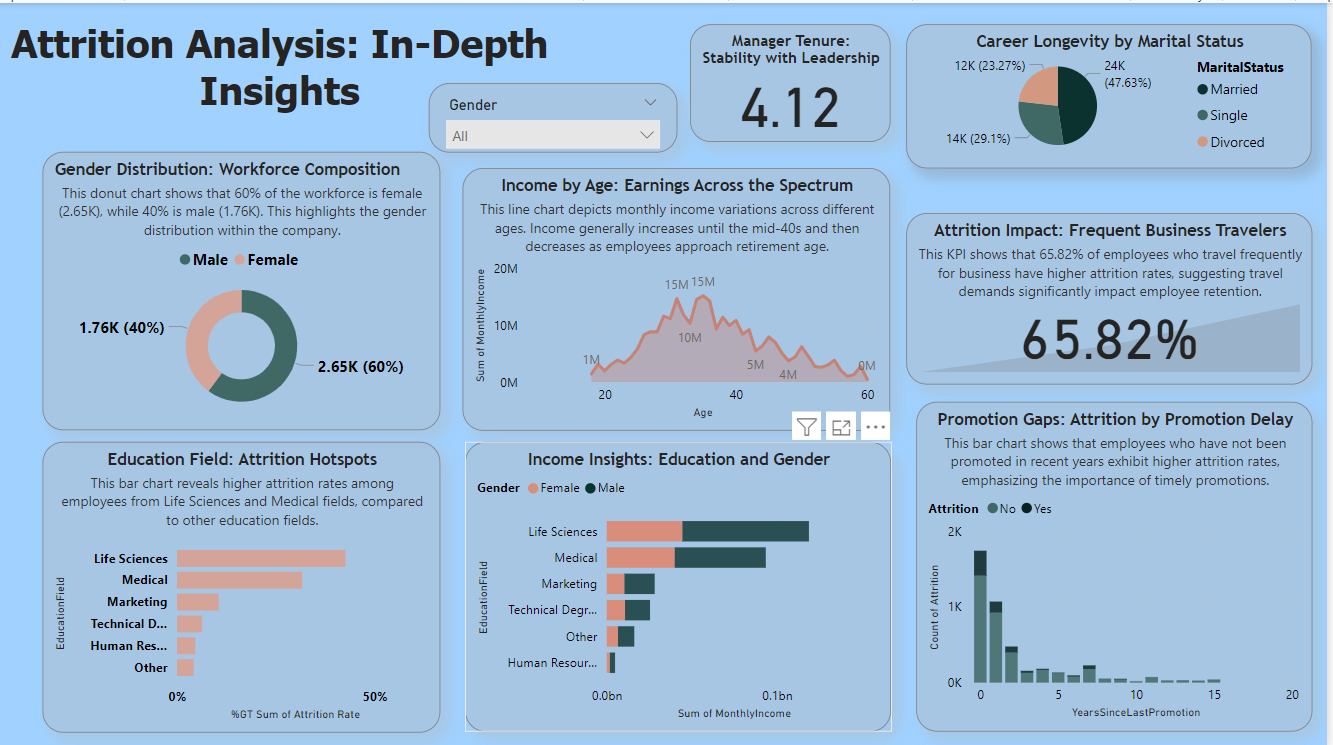

This screenshot's page, from the dashboard's own definition file:
{"tool":"powerbi","page":{"name":"Page 2","canvas":[1280,720],"ordinal":1},"visuals":[{"type":"donutChart","title":"Gender Distribution: Workforce Composition","fields":{"Category":["cleaned_file 1.Gender"],"Y":["CountNonNull(cleaned_file 1.EmployeeCount)"]},"box":[41.1,144,383.9,268.7],"z":0},{"type":"lineChart","title":"Income by Age: Earnings Across the Spectrum","fields":{"Category":["cleaned_file 1.Age"],"Y":["Sum(cleaned_file 1.MonthlyIncome)"]},"box":[447,159,412.7,253.6],"z":1000},{"type":"barChart","title":"Education Field: Attrition Hotspots","fields":{"Category":["cleaned_file 1.EducationField"],"Y":["Sum(cleaned_file 1.Attrition Rate)"]},"box":[41.1,423.7,383.9,281.1],"z":2000},{"type":"kpi","title":"Attrition Impact: Frequent Business Travelers","fields":{"Indicator":["Sum(cleaned_file 1.Attrition Rate)"],"TrendLine":["cleaned_file 1.BusinessTravel"]},"box":[874.7,202.9,392.1,165.9],"z":3000},{"type":"card","title":"Manager Tenure: Stability with Leadership","fields":{"Values":["Avg(cleaned_file 1.YearsWithCurrManager)"]},"box":[665.4,20,193.7,113.6],"z":4000},{"type":"barChart","title":"Income Insights: Education and Gender","fields":{"Category":["cleaned_file 1.EducationField"],"Y":["Sum(cleaned_file 1.MonthlyIncome)"],"Series":["cleaned_file 1.Gender"]},"box":[448.3,423.7,411.3,279.7],"z":5000},{"type":"lineStackedColumnComboChart","title":"Promotion Gaps: Attrition by Promotion Delay","fields":{"Category":["cleaned_file 1.YearsSinceLastPromotion"],"Y":["CountNonNull(cleaned_file 1.Attrition)"],"Series":["cleaned_file 1.Attrition"]},"box":[884.3,385.3,382.5,318.1],"z":6000},{"type":"slicer","fields":{"Values":["cleaned_file 1.Gender"]},"box":[414.1,76.8,239.9,67.2],"z":7000},{"type":"pieChart","title":"Career Longevity by Marital Status","fields":{"Category":["cleaned_file 1.MaritalStatus"],"Y":["Sum(cleaned_file 1.TotalWorkingYears)"]},"box":[875.2,20,391.5,139],"z":8000},{"type":"textbox","box":[0,10.7,539.8,109.6],"z":9000}]}

Visuals, with their boxes in screenshot pixels (x1, y1, x2, y2), scaled from the page's 1280x720 canvas onto the 1333x745 screenshot:
"Gender Distribution: Workforce Composition" donutChart: bbox=(43, 149, 443, 427)
"Income by Age: Earnings Across the Spectrum" lineChart: bbox=(466, 165, 895, 427)
"Education Field: Attrition Hotspots" barChart: bbox=(43, 438, 443, 729)
"Attrition Impact: Frequent Business Travelers" kpi: bbox=(911, 210, 1319, 382)
"Manager Tenure: Stability with Leadership" card: bbox=(693, 21, 895, 138)
"Income Insights: Education and Gender" barChart: bbox=(467, 438, 895, 728)
"Promotion Gaps: Attrition by Promotion Delay" lineStackedColumnComboChart: bbox=(921, 399, 1319, 728)
slicer - cleaned_file 1.Gender: bbox=(431, 79, 681, 149)
"Career Longevity by Marital Status" pieChart: bbox=(911, 21, 1319, 165)
textbox: bbox=(0, 11, 562, 124)
